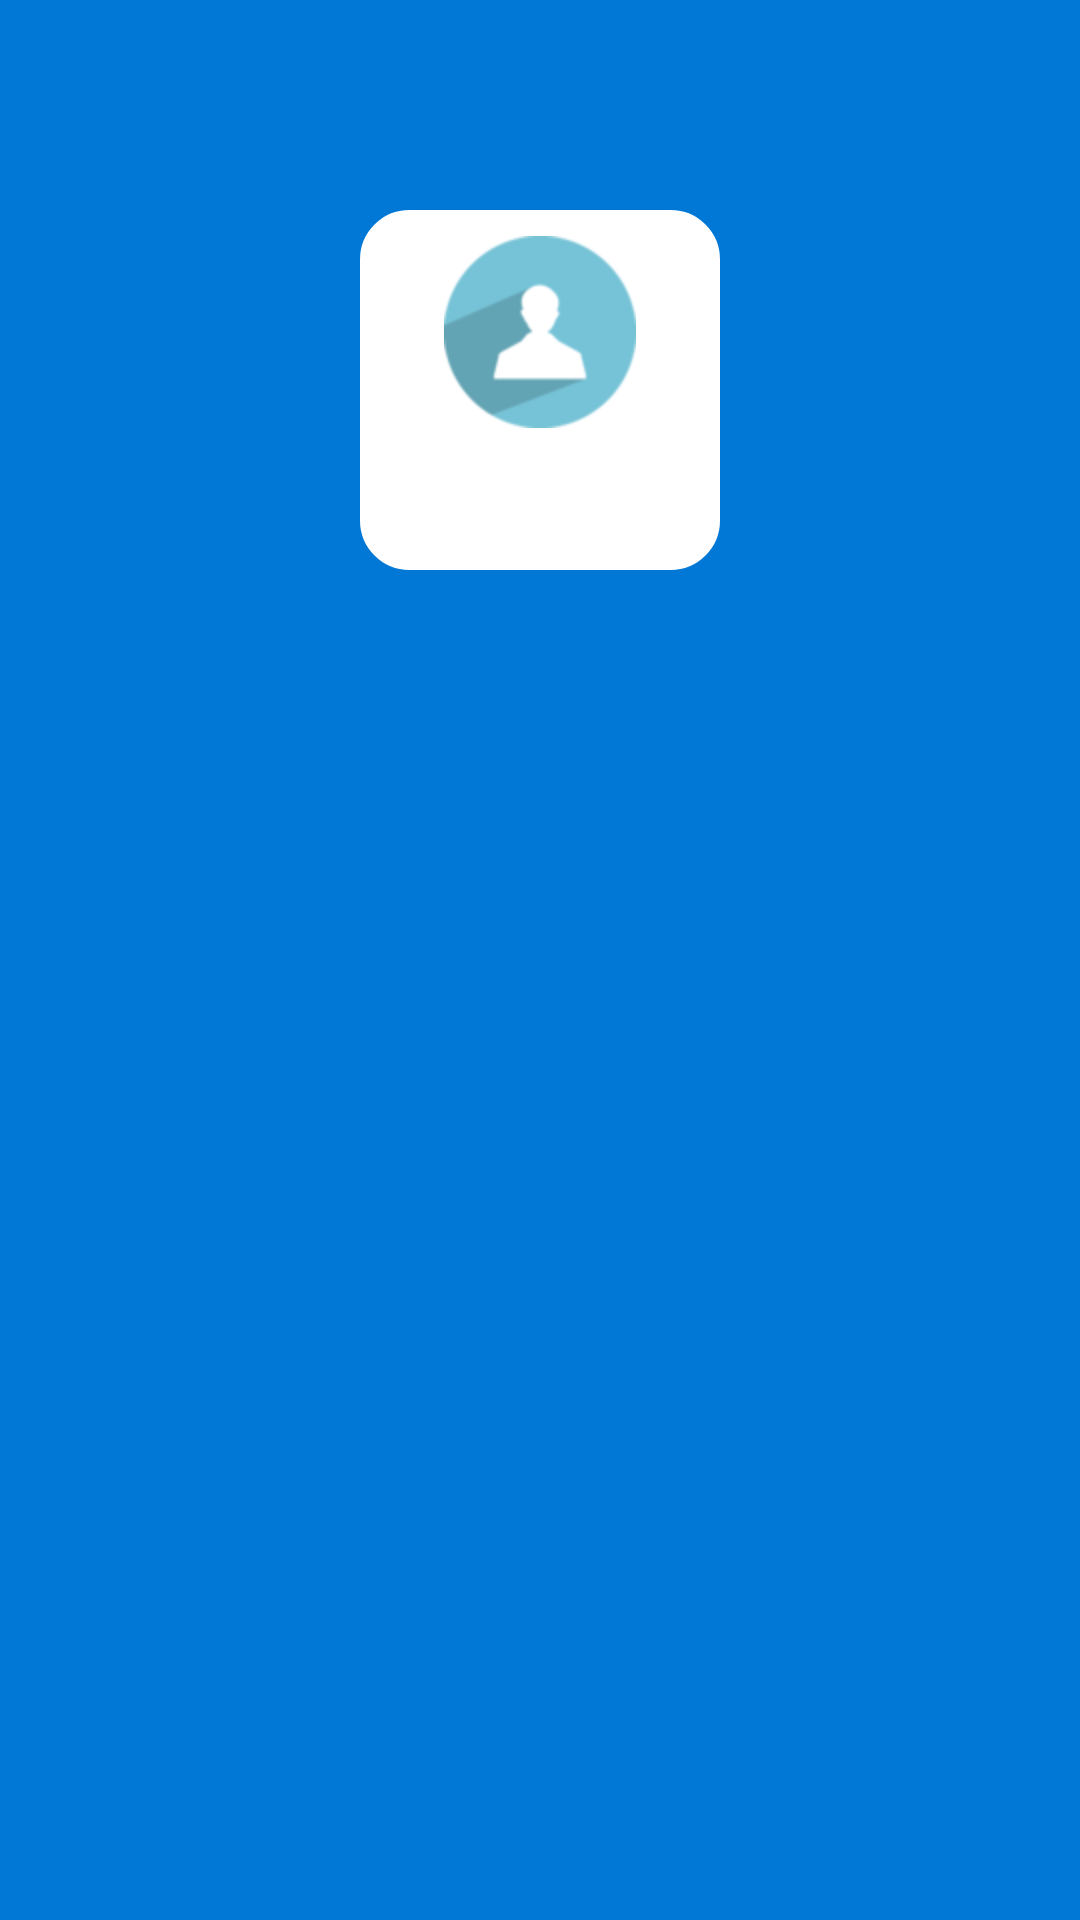

Screen size 1080 × 1920. Icon name, then its center in pixels as (x=x, y=y):
player: (x=540, y=332)
